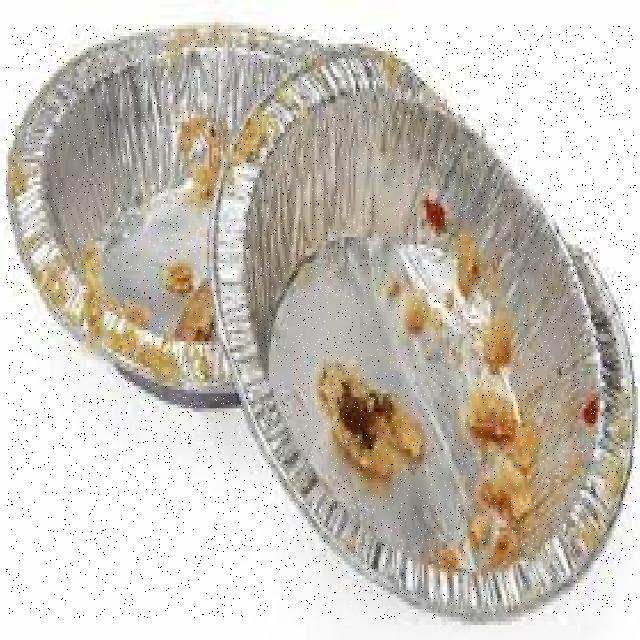metal: (7, 26, 637, 619), (9, 26, 341, 407)
